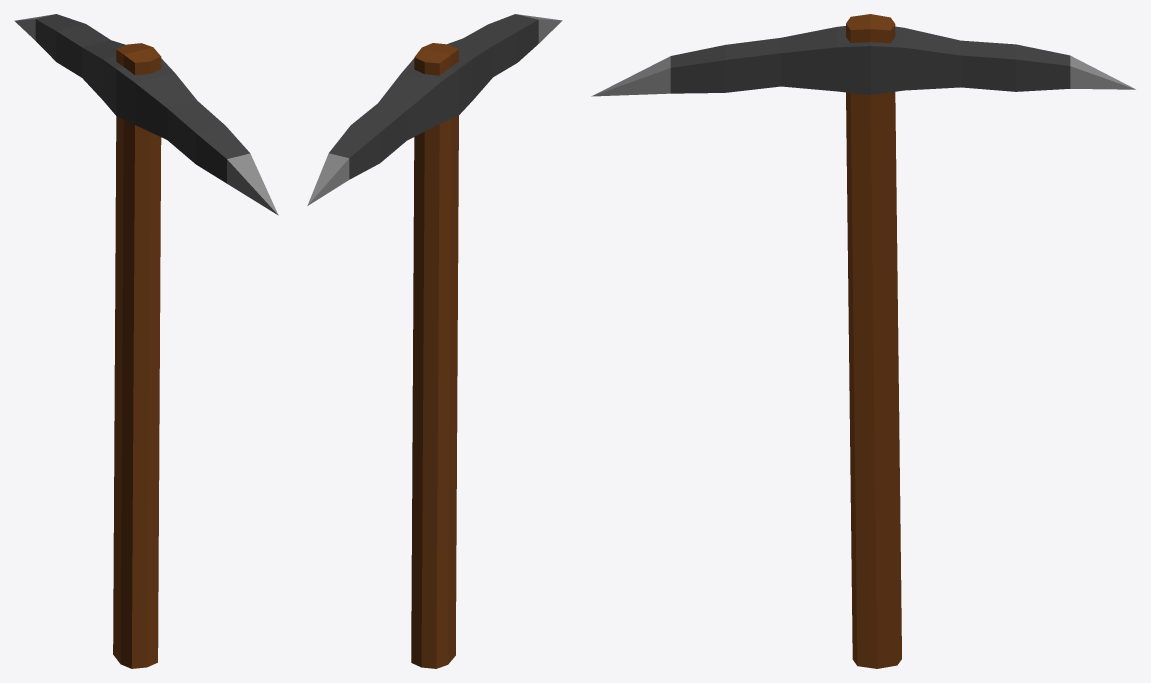
The model's file is pickaxe.fbx.
The picture shows the model from 3 angles, left to right: view 1: azimuth 30°, elevation 25°; view 2: azimuth 150°, elevation 25°; view 3: azimuth 270°, elevation 25°; orthographic projection. The views are drawn at different scales.
Visible parts, largest first — view 1: Cube; view 2: Cube; view 3: Cube.
Part boxes in pixels (bbox=[...]): Cube: bbox=[14, 14, 278, 668]; Cube: bbox=[307, 14, 562, 668]; Cube: bbox=[591, 14, 1135, 668].
Size of the model in its own units: 160 by 2087 by 1613.
